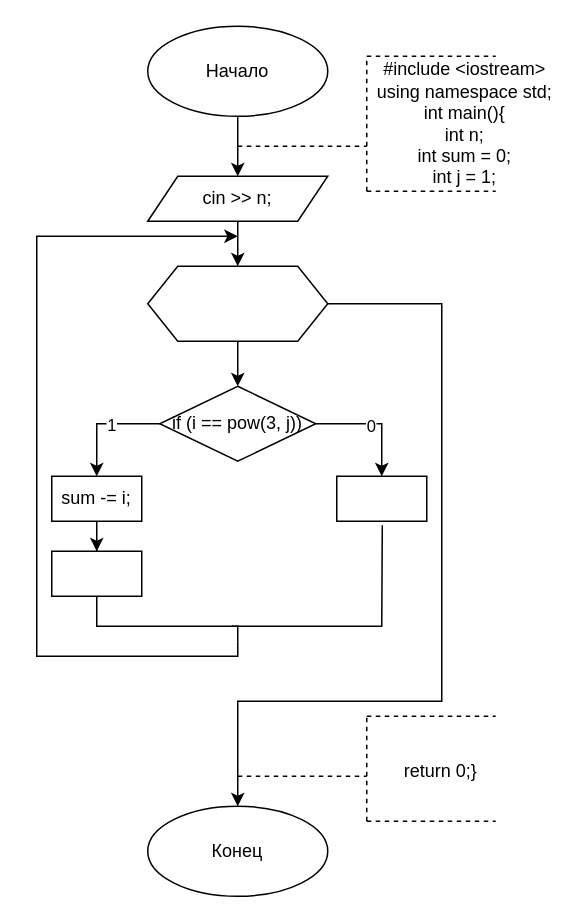
Image size: 588x923. Some labels were removed from this diagram. The shapes that lost their labels are listed below. From the top down, each one's centre as x and y in pixels, then its label:
At [237,303]: "for (int i = 1; i <= n; i++)".
At [381,498]: "sum += i;".
At [96,573]: "j += 1;".
